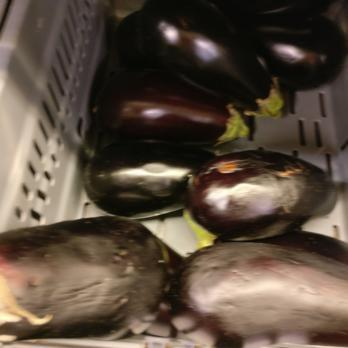Brinjal: (93, 1, 348, 227), (1, 216, 169, 348), (181, 234, 348, 348)
